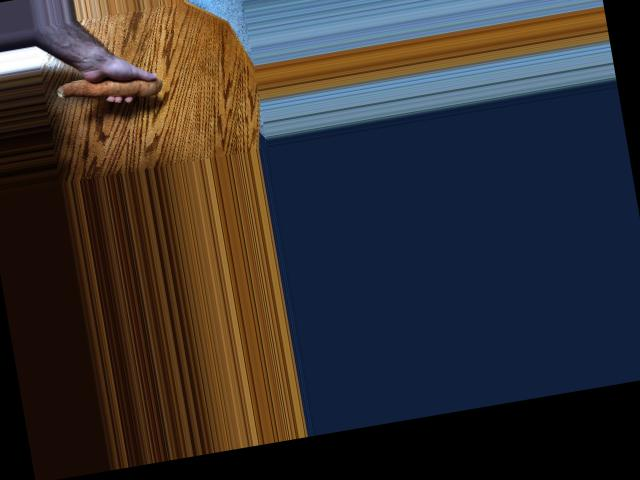sweet_potato: (56, 63, 162, 115)
